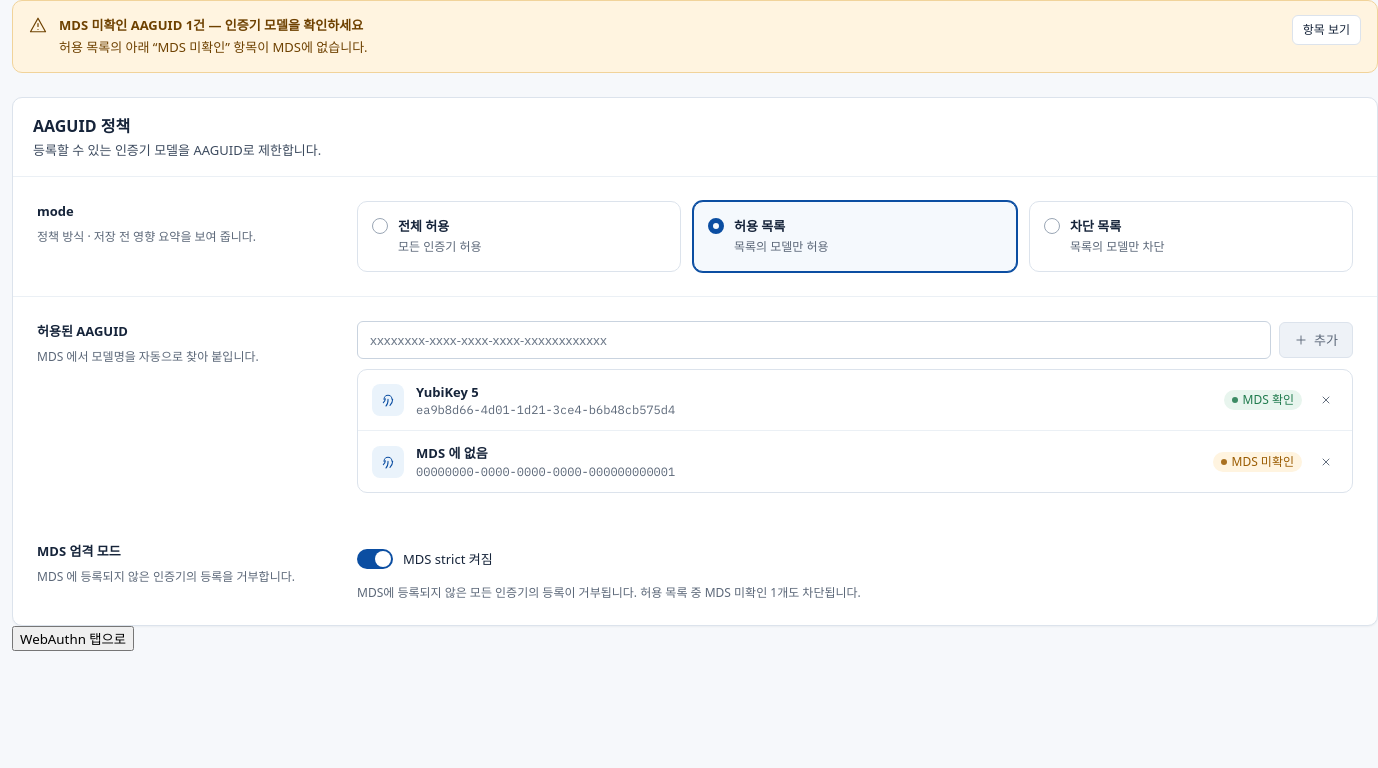
Scenario: AaguidPolicyTab V2 › MDS strict 스위치 → SaveBar 요약
What coordinates should you click on to do the following:
click the switch labelled "MDS strict 켜짐"
I would click on:
 (425, 559)
Its box is [357,549,493,569].
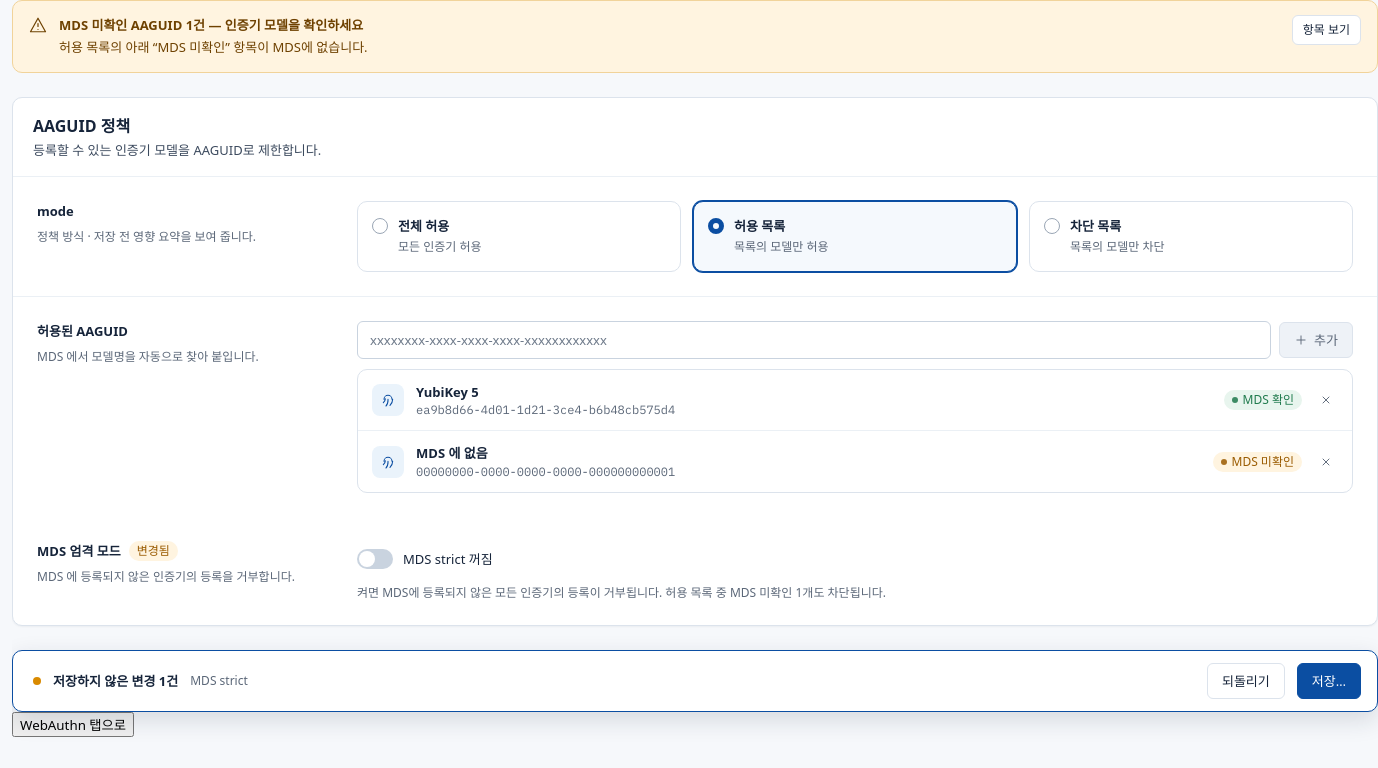
Check: the switch labelled "MDS strict 꺼짐" is not checked, box [357,549,493,569]
Check: the element named "저장되지 않은 변경" shows "MDS strict", box [190,672,248,689]
